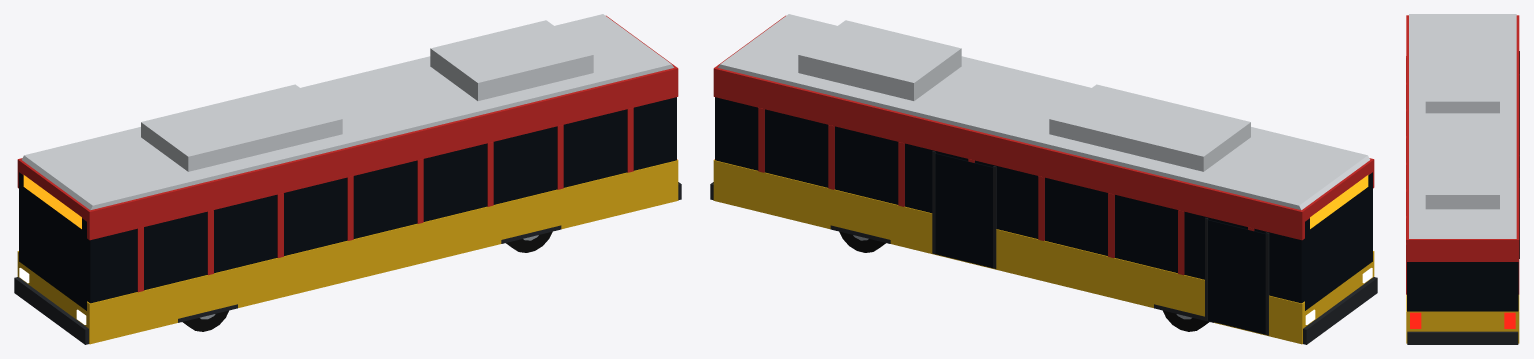
The model's file is bus40-rapid.glb.
3 renders of one model, left to right at view 1: azimuth 30°, elevation 25°; view 2: azimuth 150°, elevation 25°; view 3: azimuth 270°, elevation 25°, orthographic. The views are drawn at different scales.
Visible parts, largest first — view 1: bus40; view 2: bus40; view 3: bus40.
Part boxes in pixels (box(x1,y1,x2,y2)): bus40: box(14, 14, 681, 344); bus40: box(710, 14, 1377, 344); bus40: box(1406, 14, 1519, 344).
Size of the model in its own units: 12.36 by 3.37 by 2.61.
